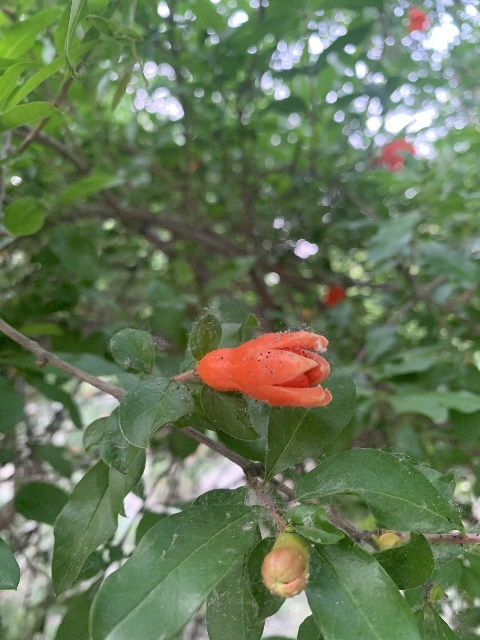bud: (261, 532, 310, 598)
flower: (196, 330, 331, 407), (370, 138, 416, 173), (406, 7, 430, 34)
